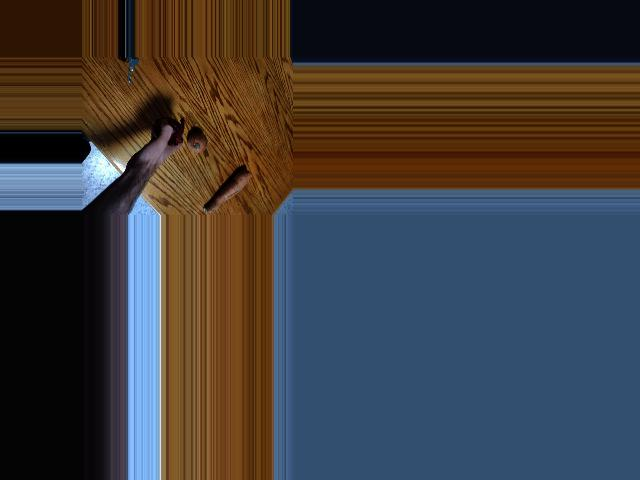onion: (155, 120, 184, 147)
